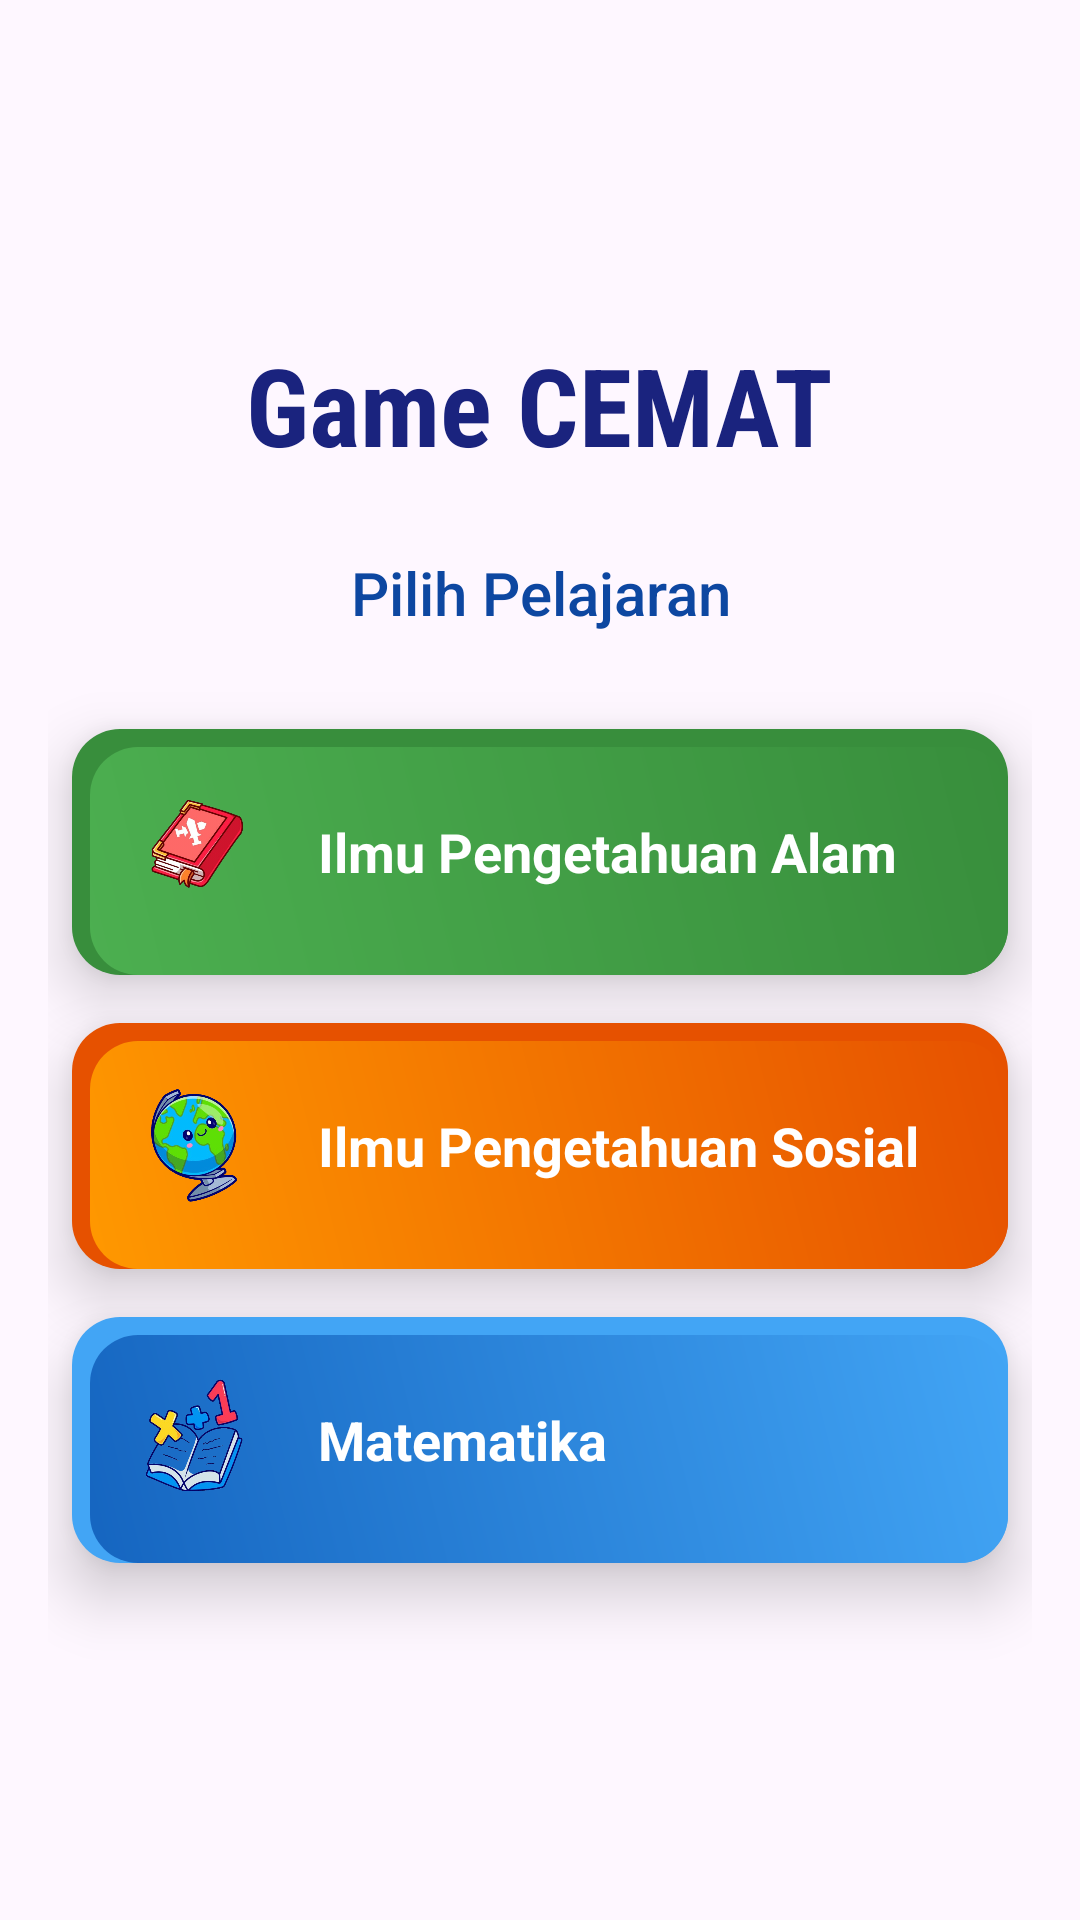

Locate icon controls on the screen. Image size 1080×1920, boxes as box=[x1, y1, x2, y2].
globe: box=[151, 1089, 237, 1202]
